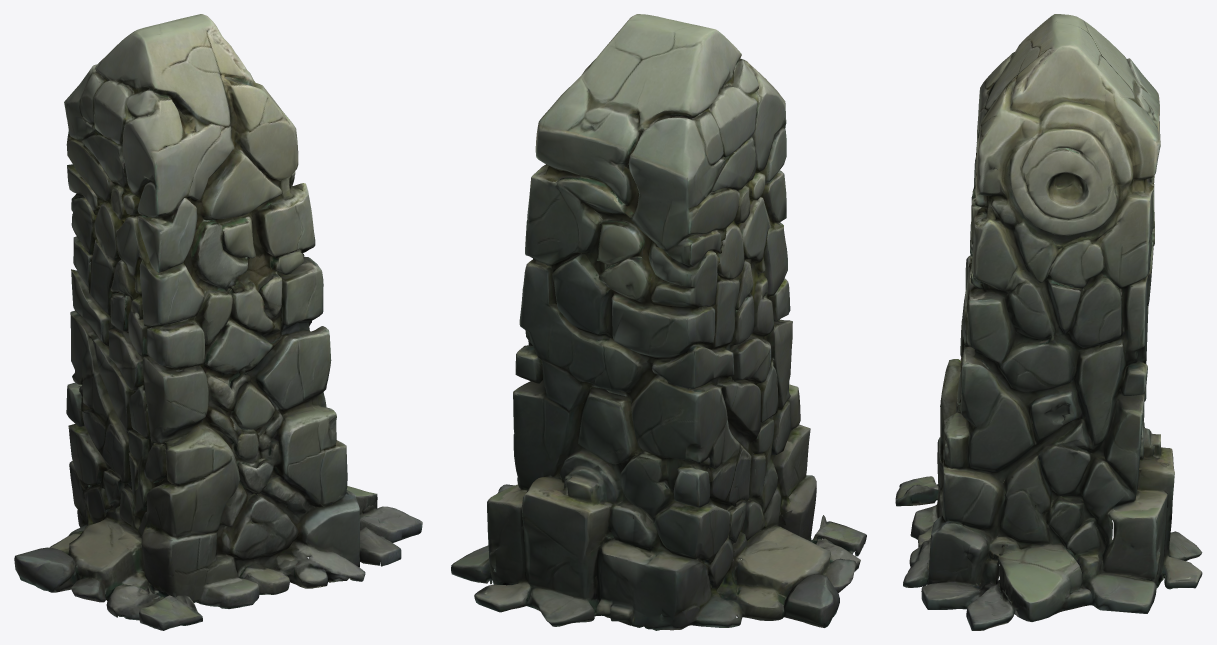
Rendered from Ancient_Obelisk.glb.
The picture shows the model from 3 angles, left to right: view 1: azimuth 30°, elevation 25°; view 2: azimuth 150°, elevation 25°; view 3: azimuth 270°, elevation 25°; orthographic projection. The views are drawn at different scales.
Visible parts, largest first — view 1: Ancient_Obelisk; view 2: Ancient_Obelisk; view 3: Ancient_Obelisk.
Part boxes in pixels (x1,y1,x2,y2): Ancient_Obelisk: [14, 14, 422, 630]; Ancient_Obelisk: [451, 14, 866, 630]; Ancient_Obelisk: [895, 14, 1202, 630].
Size of the model in its own units: 1.42 by 2 by 1.09.
1 material, 1 textured.
